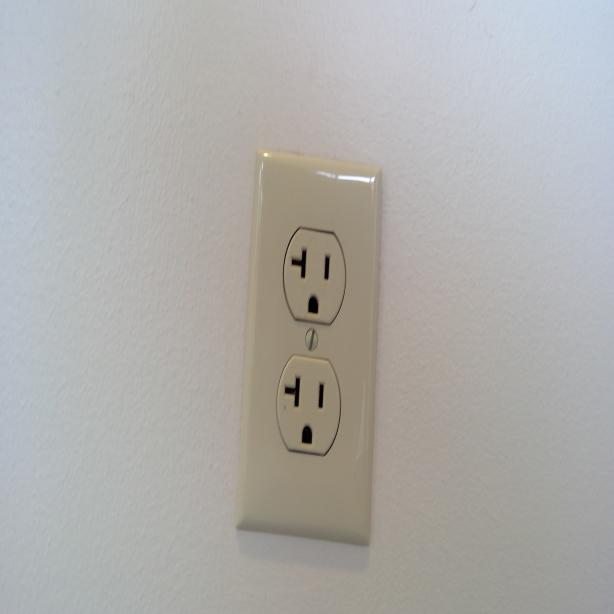typeb: (279, 356, 341, 458), (284, 220, 345, 322)
